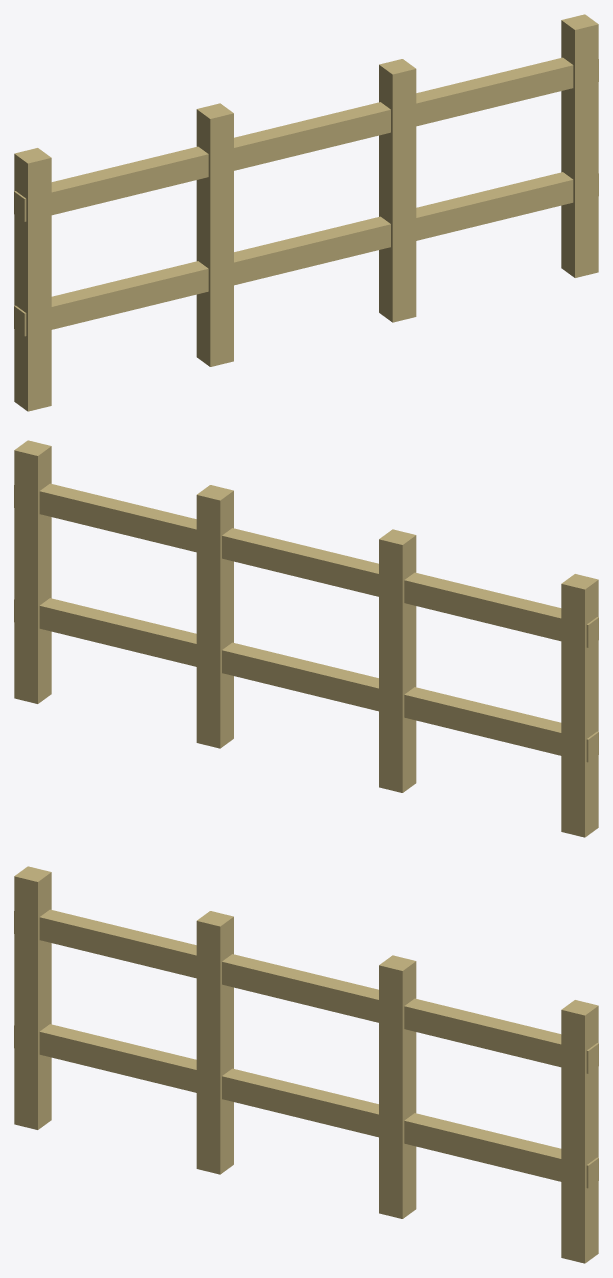
File: fence_bamboo.glb
3 views of the same model, one above another, from view 1: azimuth 30°, elevation 25°; view 2: azimuth 150°, elevation 25°; view 3: azimuth 330°, elevation 25° (orthographic).
Parts seen in each view (by area): view 1: part_4, part_5, part_0, part_2, part_3, part_1; view 2: part_4, part_5, part_0, part_2, part_3, part_1; view 3: part_4, part_5, part_3, part_1, part_0, part_2.
Boxes of the visible parts, bbox=[...] form: part_4: bbox=[14, 172, 598, 336]; part_5: bbox=[14, 57, 598, 221]; part_0: bbox=[14, 148, 51, 411]; part_2: bbox=[379, 59, 416, 322]; part_3: bbox=[561, 14, 598, 277]; part_1: bbox=[196, 103, 233, 366]; part_4: bbox=[14, 598, 598, 762]; part_5: bbox=[14, 483, 598, 647]; part_0: bbox=[561, 574, 598, 837]; part_2: bbox=[196, 485, 233, 748]; part_3: bbox=[14, 440, 51, 703]; part_1: bbox=[379, 529, 416, 792]; part_4: bbox=[14, 1024, 598, 1188]; part_5: bbox=[14, 909, 598, 1073]; part_3: bbox=[561, 1000, 598, 1263]; part_1: bbox=[196, 911, 233, 1174]; part_0: bbox=[14, 866, 51, 1129]; part_2: bbox=[379, 955, 416, 1218].
Bounding box in the file's own units: 3.15 × 1.3 × 0.13.
